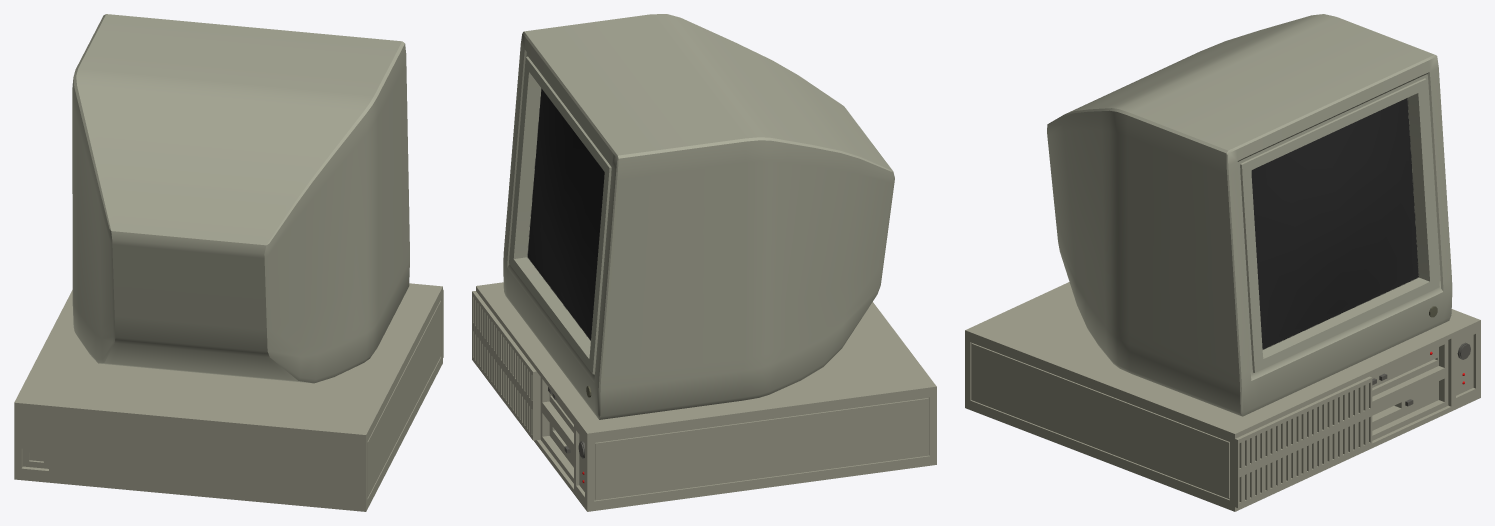
3 views of the same model, side by side, from view 1: azimuth 30°, elevation 25°; view 2: azimuth 150°, elevation 25°; view 3: azimuth 270°, elevation 25° (orthographic).
Parts seen in each view (by area): view 1: Monitor_Cylinder:021_Cylinder:043, PC_Cylinder:019_Cylinder:037; view 2: Monitor_Cylinder:021_Cylinder:043, PC_Cylinder:019_Cylinder:037; view 3: Monitor_Cylinder:021_Cylinder:043, PC_Cylinder:019_Cylinder:037.
Part boxes in pixels (x1,y1,x2,y2): Monitor_Cylinder:021_Cylinder:043: (72,14,409,383); PC_Cylinder:019_Cylinder:037: (14,283,443,511); Monitor_Cylinder:021_Cylinder:043: (503,14,894,419); PC_Cylinder:019_Cylinder:037: (472,282,936,511); Monitor_Cylinder:021_Cylinder:043: (1047,14,1452,416); PC_Cylinder:019_Cylinder:037: (965,282,1480,511).
Bounding box in the file's own units: 380 × 275 × 378.
2 materials, 2 textured.
